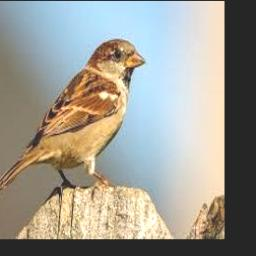Sparrow: (0, 39, 146, 192)
